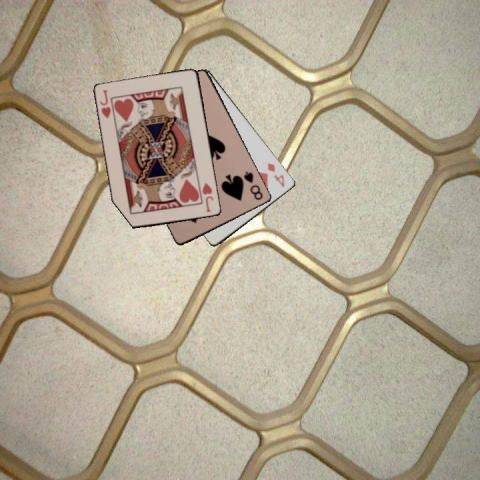4d: (265, 160, 286, 189)
8s: (240, 168, 264, 201)
Jh: (97, 88, 115, 122), (199, 180, 215, 213)
